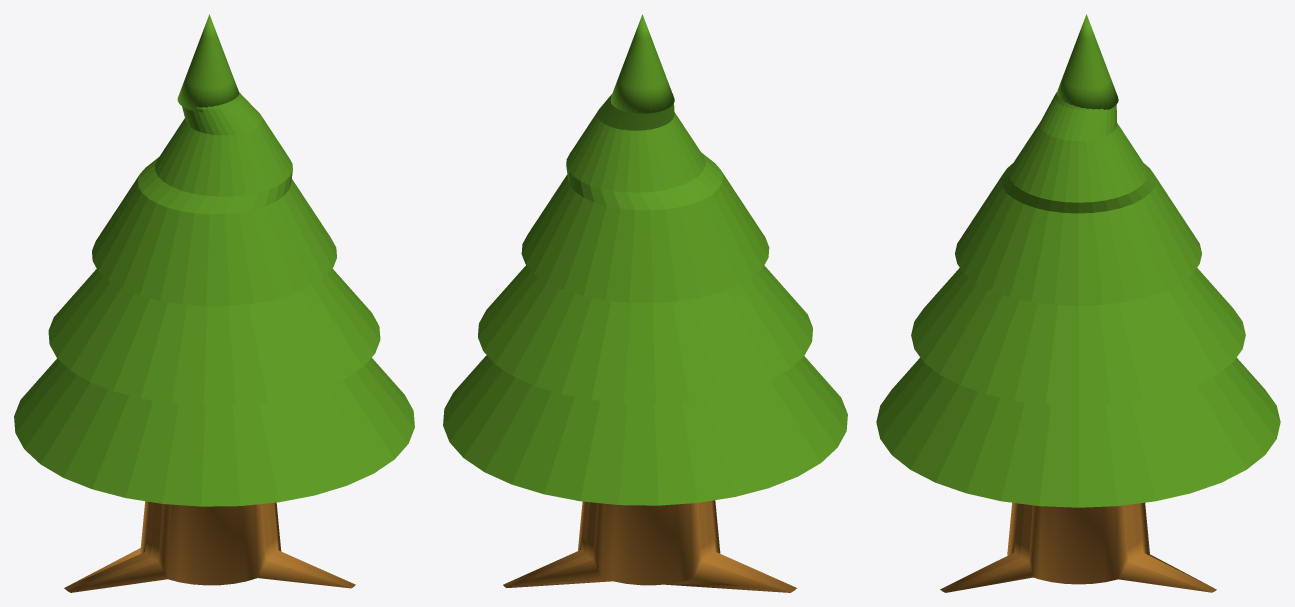
Rendered from tree.fbx.
3 views of the same model, side by side, from view 1: azimuth 30°, elevation 25°; view 2: azimuth 150°, elevation 25°; view 3: azimuth 270°, elevation 25° (orthographic).
Visible parts, largest first — view 1: Cone.004, Cone, Cone.002, Cylinder.001, Cone.001; view 2: Cone.004, Cone, Cone.002, Cylinder.001, Cone.001; view 3: Cone.004, Cone, Cone.002, Cylinder.001, Cone.001.
Part boxes in pixels (x1,y1,x2,y2): Cone.004: [14, 357, 414, 506]; Cone: [92, 92, 336, 306]; Cone.002: [48, 268, 380, 405]; Cylinder.001: [64, 501, 355, 592]; Cone.001: [177, 14, 238, 112]; Cone.004: [443, 355, 847, 505]; Cone: [521, 94, 769, 303]; Cone.002: [478, 265, 812, 403]; Cylinder.001: [503, 500, 796, 592]; Cone.001: [610, 14, 674, 113]; Cone.004: [876, 357, 1280, 507]; Cone: [955, 92, 1201, 305]; Cone.002: [911, 268, 1245, 405]; Cylinder.001: [940, 502, 1216, 592]; Cone.001: [1056, 14, 1118, 109].
Bounding box in the file's own units: 408 × 603 × 408.
